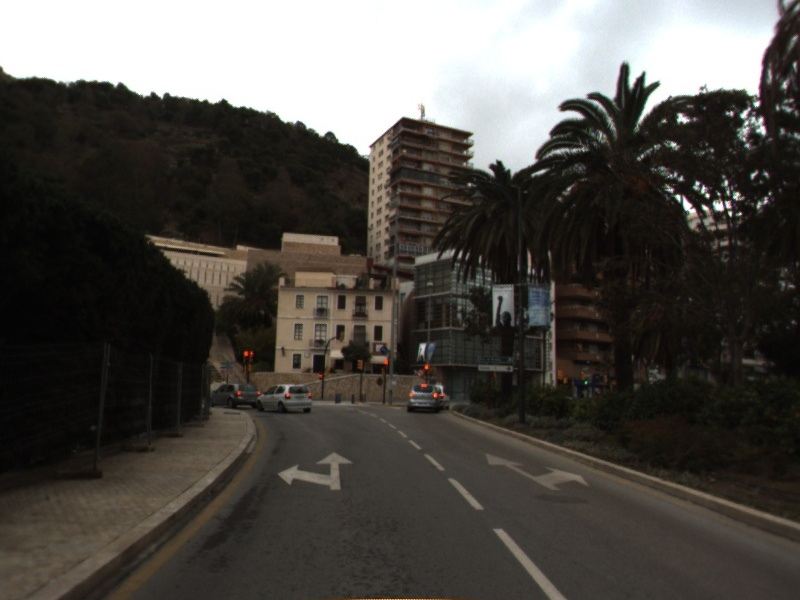STRAIGHT_LEFT: (275, 450, 356, 492)
STRAIGHT_RIGHT: (484, 451, 591, 492)
